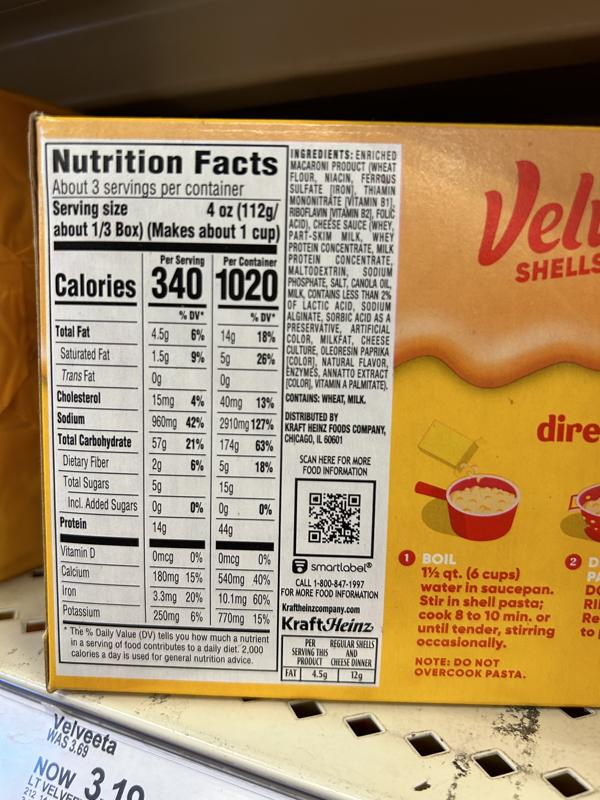ingredients: (285, 147, 399, 391)
